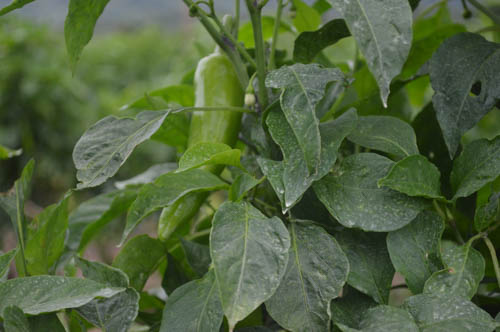ChiliPepper: (157, 58, 244, 256)
